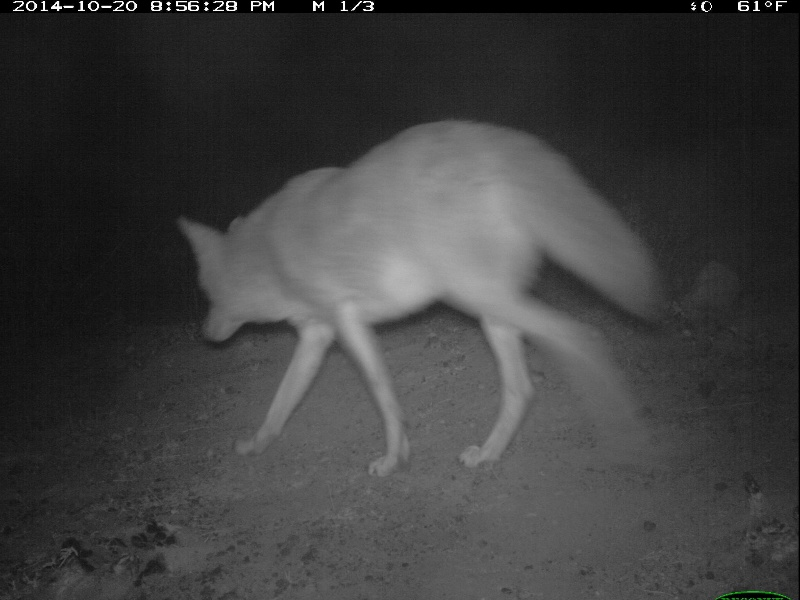coyote: (175, 117, 685, 487)
